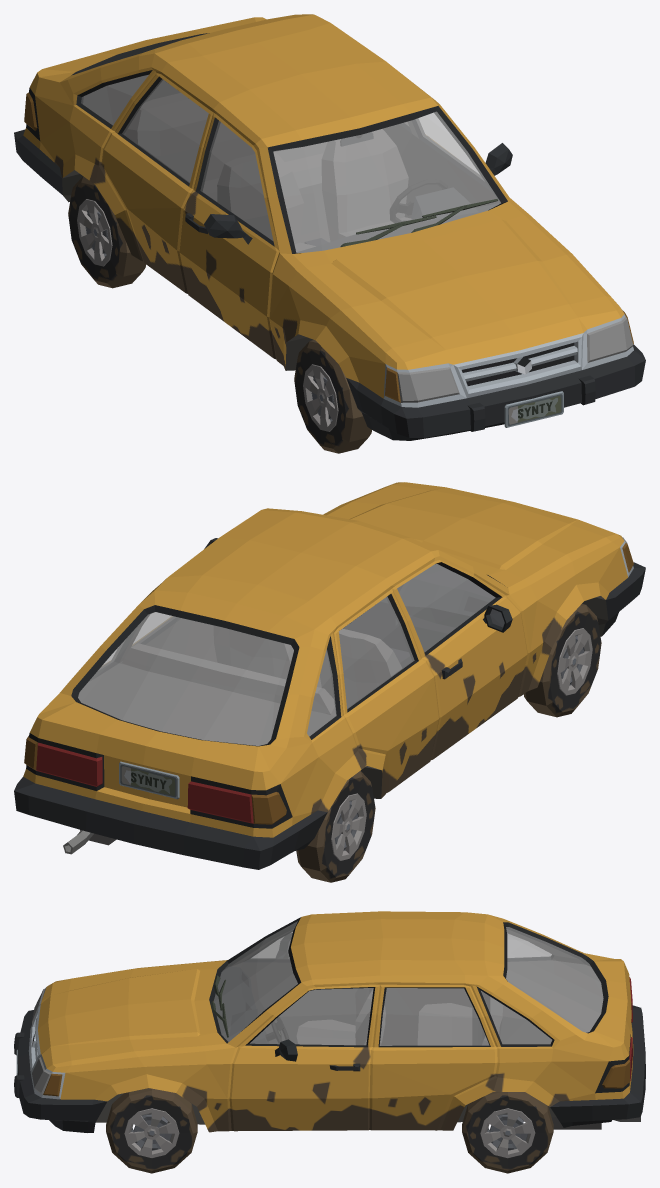
File: SM_Veh_Car_Medium_01.fbx
3 renders of one model, top to bottom at view 1: azimuth 30°, elevation 25°; view 2: azimuth 150°, elevation 25°; view 3: azimuth 270°, elevation 25°, orthographic. The views are drawn at different scales.
Visible parts, largest first — view 1: SM_Veh_Car_Medium_01, SM_Veh_Car_Medium_01_Glass, SM_Veh_Car_Medium_01_Wheel_fr, SM_Veh_Car_Medium_01_Wheel_rr, SM_Veh_Car_Medium_01_SteeringW; view 2: SM_Veh_Car_Medium_01, SM_Veh_Car_Medium_01_Glass, SM_Veh_Car_Medium_01_Wheel_rr, SM_Veh_Car_Medium_01_Wheel_fr; view 3: SM_Veh_Car_Medium_01, SM_Veh_Car_Medium_01_Glass, SM_Veh_Car_Medium_01_Wheel_fl, SM_Veh_Car_Medium_01_Wheel_rl.
Part boxes in pixels (<box>): SM_Veh_Car_Medium_01: <box>14,14,645,440</box>; SM_Veh_Car_Medium_01_Glass: <box>81,75,500,253</box>; SM_Veh_Car_Medium_01_Wheel_fr: <box>294,340,371,453</box>; SM_Veh_Car_Medium_01_Wheel_rr: <box>68,176,145,288</box>; SM_Veh_Car_Medium_01_SteeringW: <box>389,179,447,223</box>; SM_Veh_Car_Medium_01: <box>14,482,645,869</box>; SM_Veh_Car_Medium_01_Glass: <box>78,564,495,745</box>; SM_Veh_Car_Medium_01_Wheel_rr: <box>296,771,375,882</box>; SM_Veh_Car_Medium_01_Wheel_fr: <box>523,604,601,717</box>; SM_Veh_Car_Medium_01: <box>14,911,645,1132</box>; SM_Veh_Car_Medium_01_Glass: <box>213,921,603,1045</box>; SM_Veh_Car_Medium_01_Wheel_fl: <box>106,1088,197,1173</box>; SM_Veh_Car_Medium_01_Wheel_rl: <box>462,1092,553,1173</box>.
Size of the model in its own units: 217 by 163 by 498.
